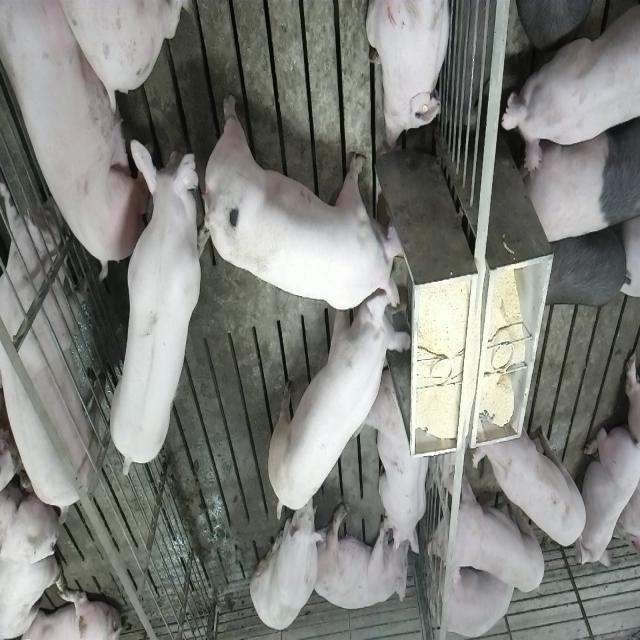Feeding: (203, 88, 407, 310), (262, 284, 408, 526)
Lateral_lying: (3, 4, 149, 280), (311, 502, 410, 611)
Sitting: (250, 488, 326, 634)
Standing: (0, 173, 104, 528), (109, 129, 209, 482), (498, 0, 638, 173), (518, 103, 638, 245), (474, 403, 588, 548), (424, 470, 546, 598), (531, 215, 633, 309)
Sternal_lying: (368, 0, 455, 150), (367, 370, 432, 556), (580, 418, 638, 568), (432, 552, 516, 637)
